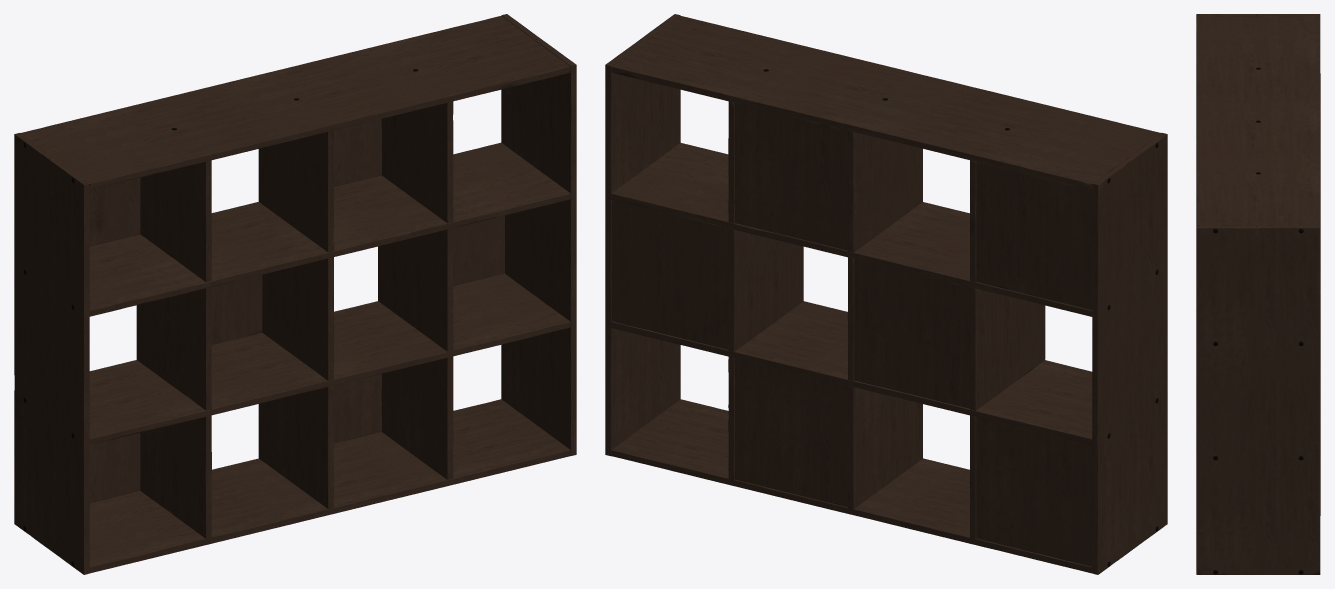
The picture shows the model from 3 angles, left to right: view 1: azimuth 30°, elevation 25°; view 2: azimuth 150°, elevation 25°; view 3: azimuth 270°, elevation 25°; orthographic projection. The views are drawn at different scales.
Parts seen in each view (by area): view 1: not_clear_obj_0_v6; view 2: not_clear_obj_0_v6; view 3: not_clear_obj_0_v6, not_clear_obj_1_v6.
Boxes of the visible parts, bbox=[...] form: not_clear_obj_0_v6: bbox=[14, 14, 576, 574]; not_clear_obj_0_v6: bbox=[605, 14, 1167, 574]; not_clear_obj_0_v6: bbox=[1196, 14, 1320, 574]; not_clear_obj_1_v6: bbox=[1213, 67, 1303, 574].
Size of the model in its own units: 47.51 by 35.9 by 11.6.
Materials: 2 (1 with a texture image).
